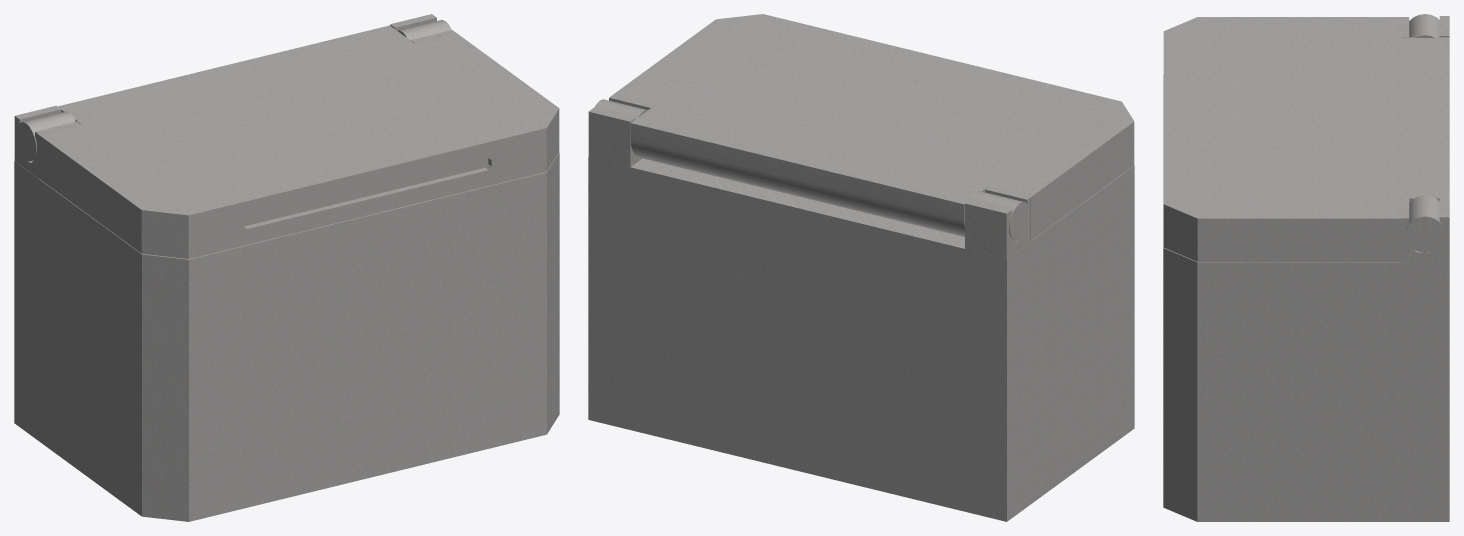
Rendered from Container_Large.fbx.
3 renders of one model, left to right at view 1: azimuth 30°, elevation 25°; view 2: azimuth 150°, elevation 25°; view 3: azimuth 270°, elevation 25°, orthographic.
Parts seen in each view (by area): view 1: polySurface6, polySurface5; view 2: polySurface6, polySurface5; view 3: polySurface6, polySurface5.
Part boxes in pixels (x1,y1,x2,y2): polySurface6: [14, 14, 559, 521]; polySurface5: [16, 20, 559, 258]; polySurface6: [588, 95, 1134, 521]; polySurface5: [594, 14, 1134, 241]; polySurface6: [1163, 16, 1449, 521]; polySurface5: [1163, 14, 1449, 261].
Size of the model in its own units: 10.04 by 7.07 by 6.
Materials: 1 (1 with a texture image).
